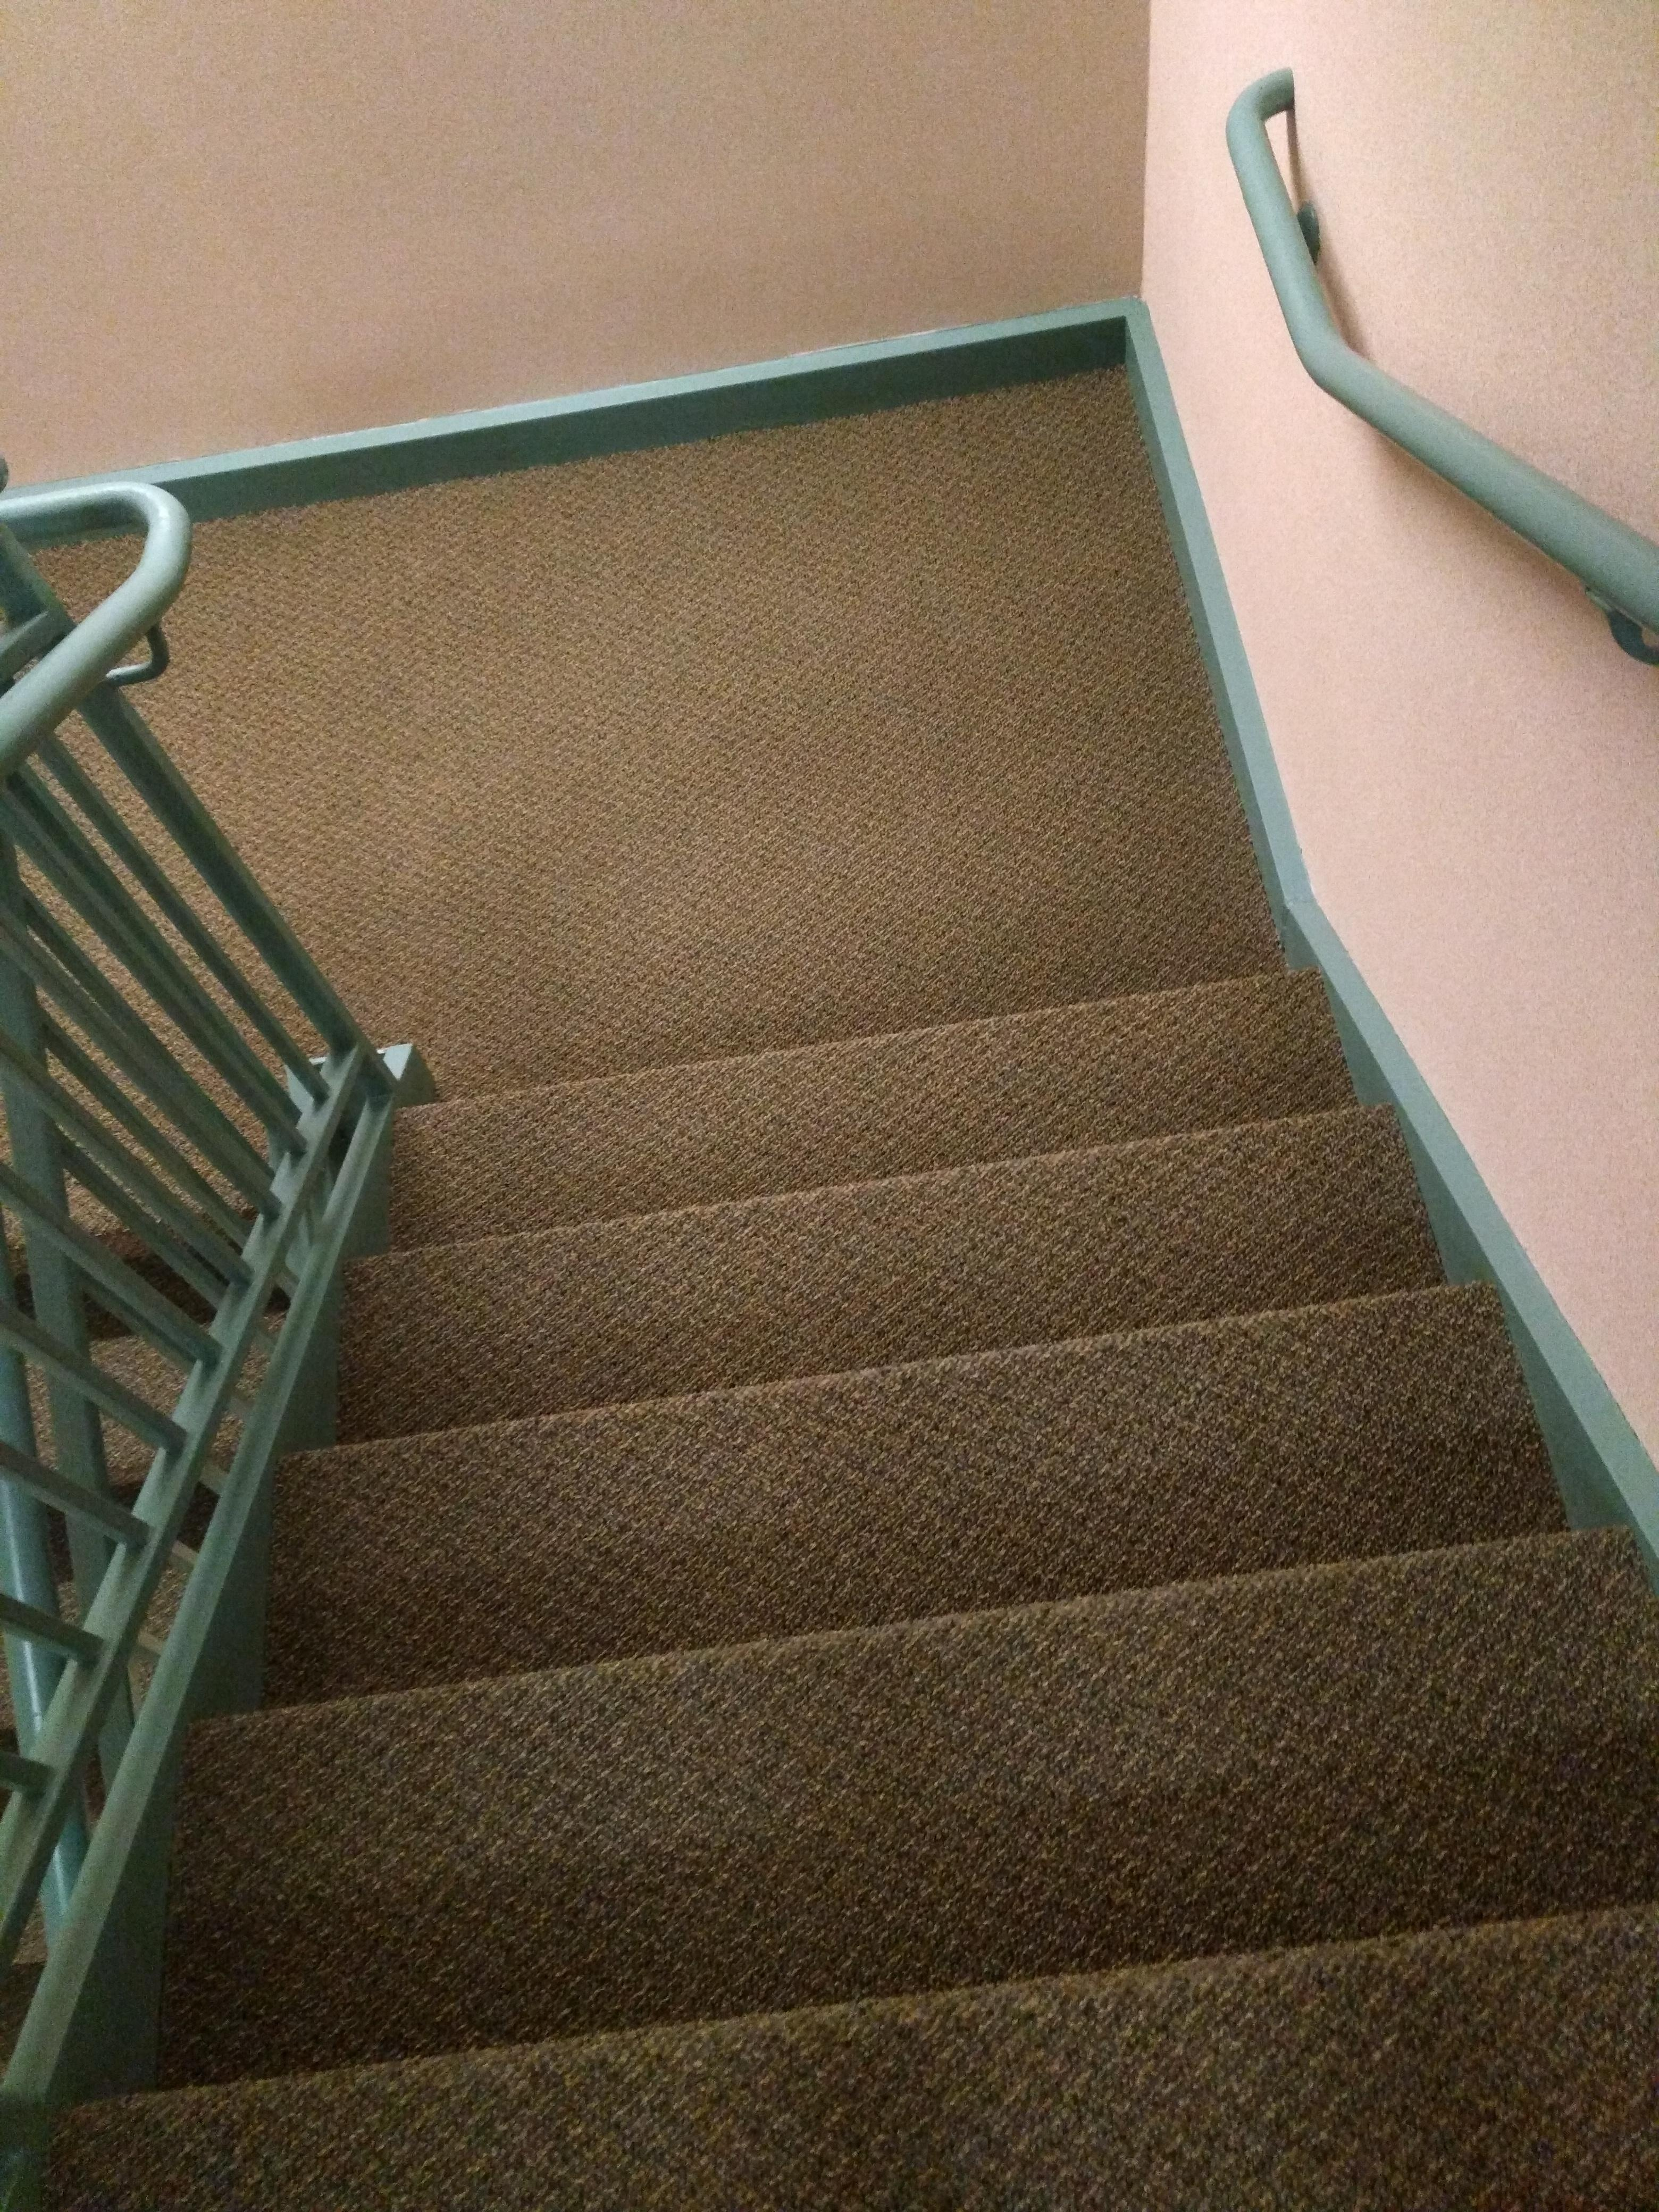stairs_down: (200, 911, 1509, 2141)
